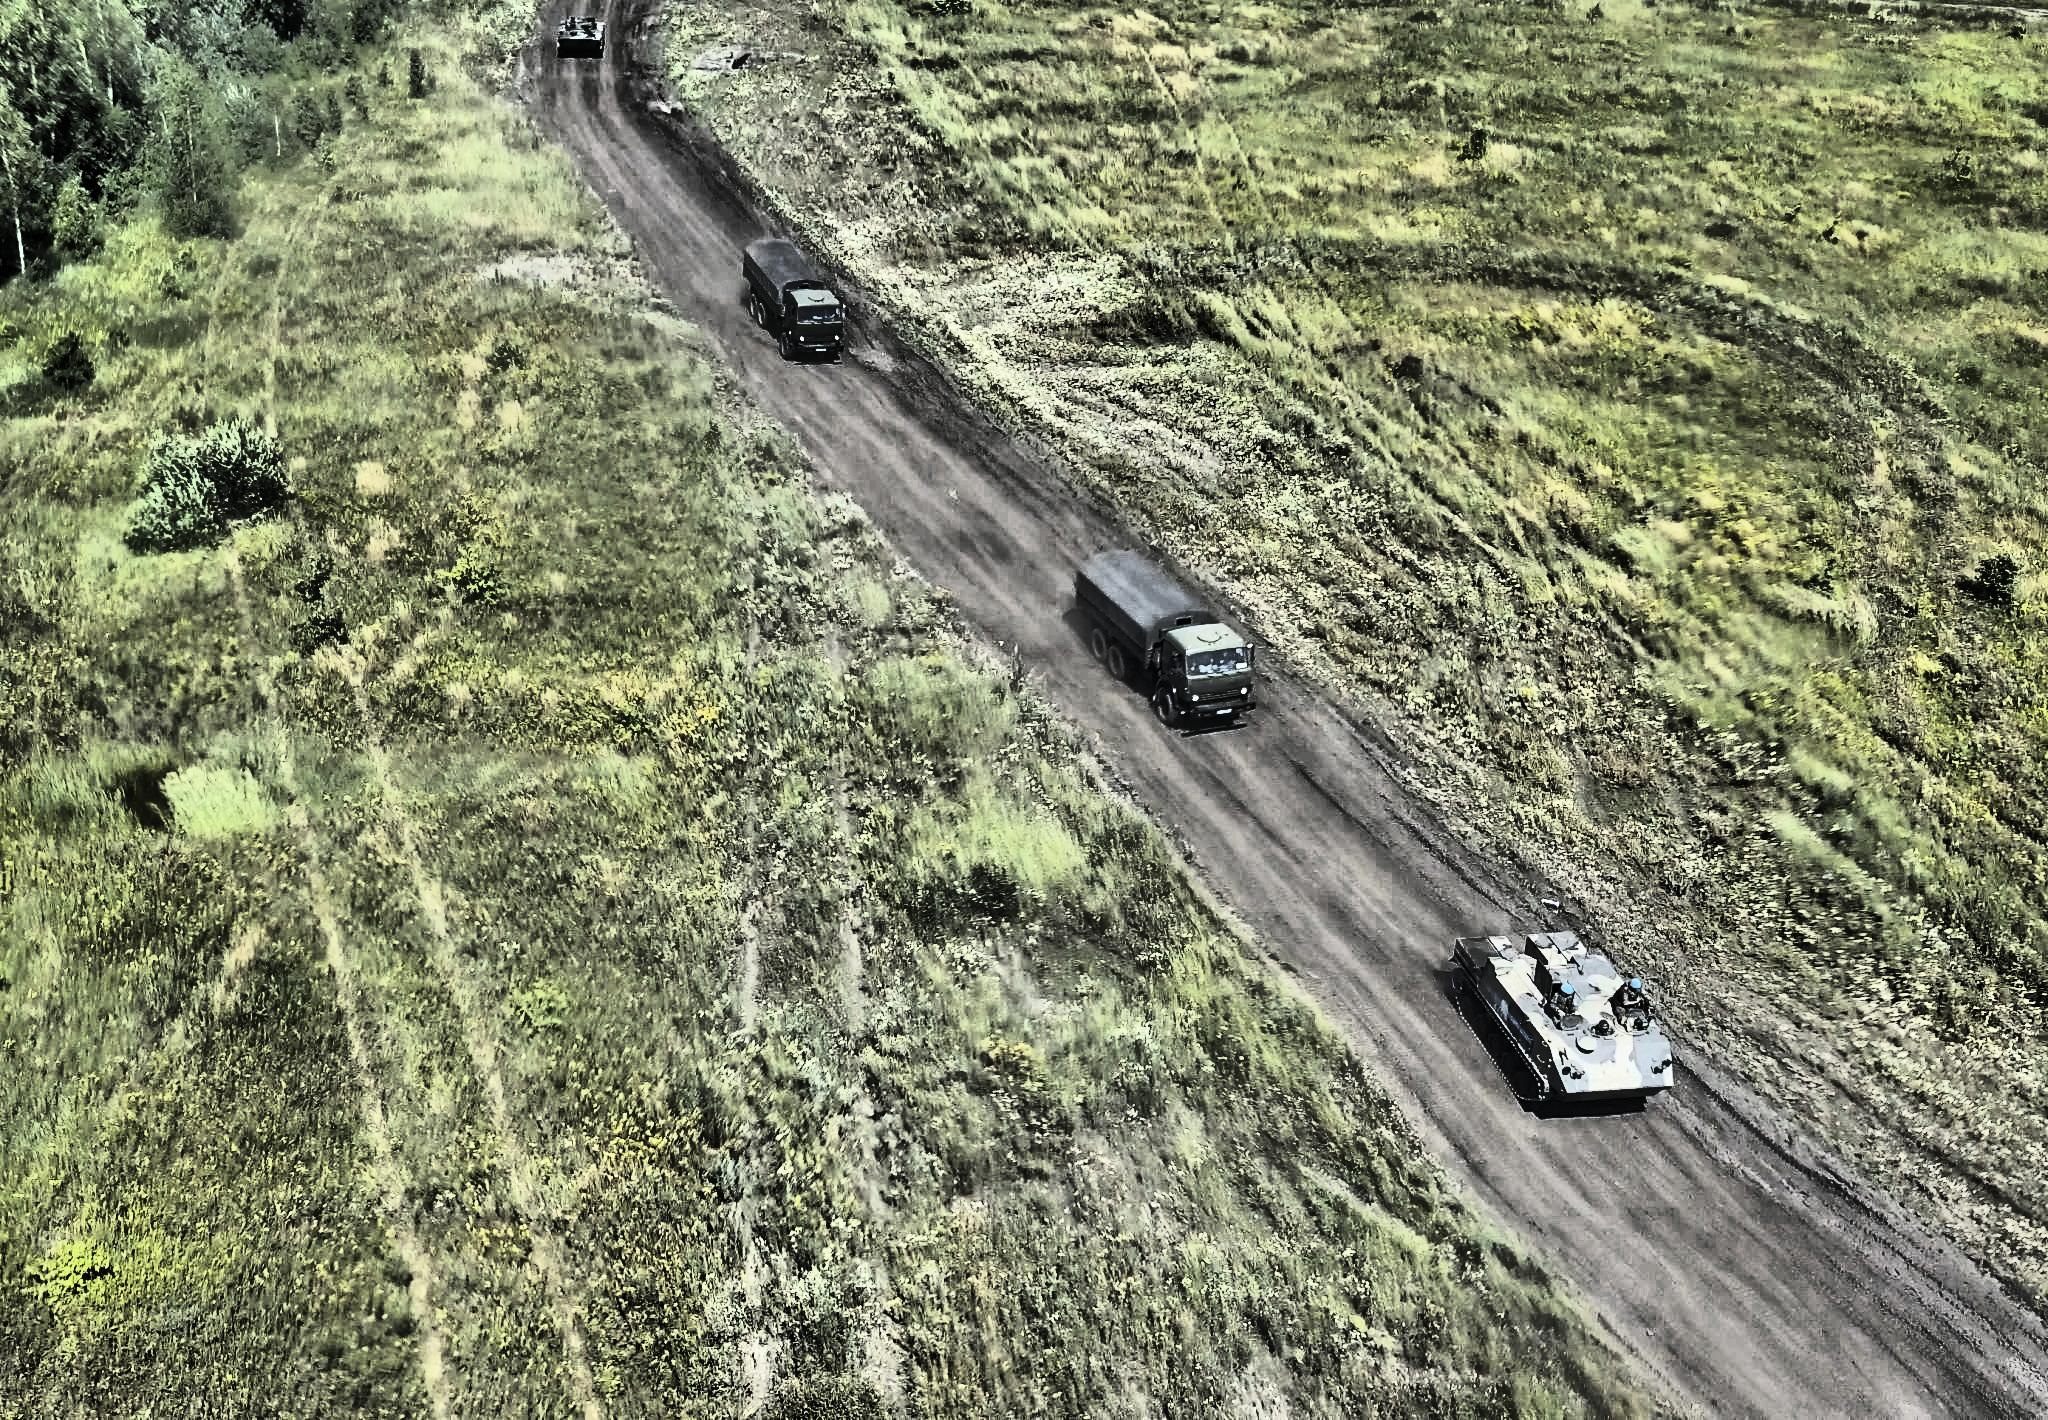military-vehicle: (1452, 928, 1680, 1112), (1078, 548, 1255, 730), (740, 232, 845, 365), (558, 15, 605, 58)
